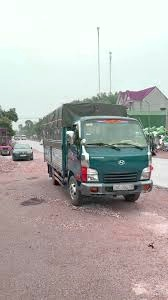Bien-so: (113, 183, 135, 190)
